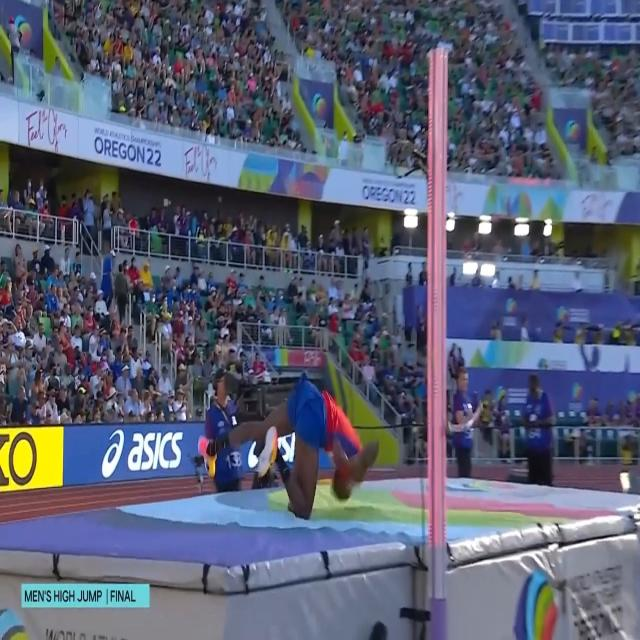land: (199, 377, 369, 523)
